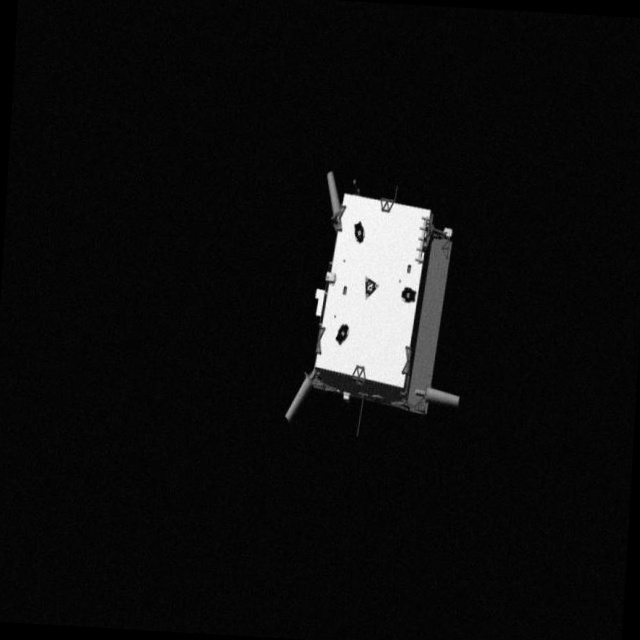medium_debris: (272, 158, 489, 443)
